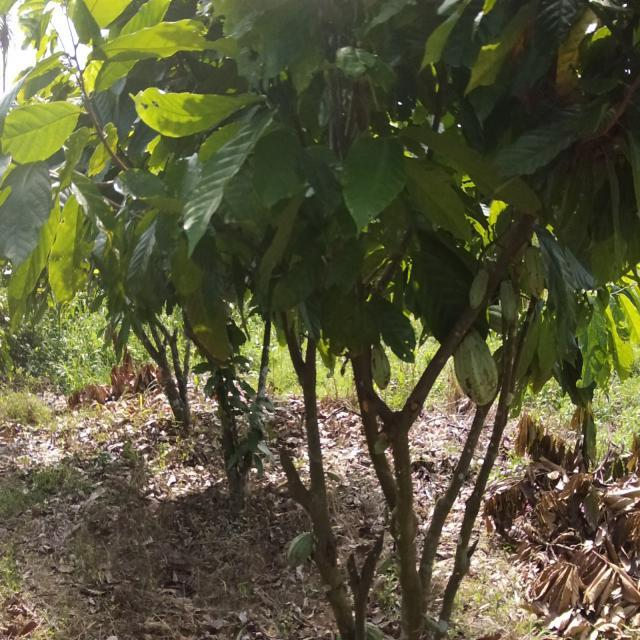Immature: (501, 243, 560, 326), (469, 262, 490, 318)
Mature_Unripe: (451, 328, 505, 412), (287, 527, 319, 573)
